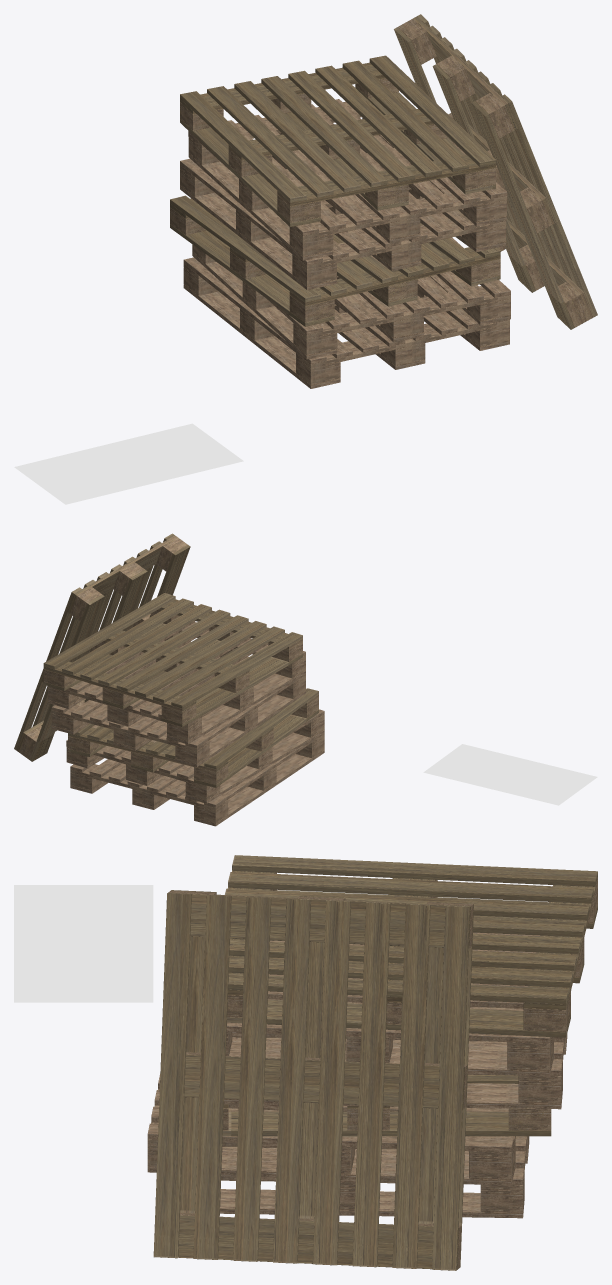
3 views of the same model, one above another, from view 1: azimuth 30°, elevation 25°; view 2: azimuth 150°, elevation 25°; view 3: azimuth 270°, elevation 25° (orthographic). The views are drawn at different scales.
Parts seen in each view (by area): view 1: group_5 (×13), group_7 (×6), V-Ray_Infinite_Plane, group_6 (×7), group_4 (×12), group_8 (×11), group_3 (×4), group_2 (×4), group_0 (×7); view 2: group_5 (×13), group_7 (×5), group_3 (×4), V-Ray_Infinite_Plane, group_6 (×5), group_2 (×4), group_8 (×5), group_0 (×4), group_4 (×4); view 3: group_5 (×16), group_7 (×6), V-Ray_Infinite_Plane, group_6 (×4), group_3 (×4), group_4 (×4), group_0 (×4), group_8 (×2).
Part boxes in pixels (x1,y1,x2,y2): group_5 (×13): [170, 55, 597, 316]; group_7 (×6): [170, 27, 574, 329]; V-Ray_Infinite_Plane: [14, 423, 243, 504]; group_6 (×7): [180, 16, 593, 318]; group_4 (×12): [289, 200, 510, 384]; group_8 (×11): [277, 18, 589, 327]; group_3 (×4): [180, 153, 340, 388]; group_2 (×4): [289, 191, 510, 368]; group_0 (×7): [180, 99, 483, 364]; group_5 (×13): [14, 533, 318, 769]; group_7 (×5): [29, 545, 318, 787]; group_3 (×4): [167, 670, 324, 826]; V-Ray_Infinite_Plane: [423, 744, 597, 805]; group_6 (×5): [43, 535, 302, 772]; group_2 (×4): [47, 685, 228, 810]; group_8 (×5): [70, 537, 228, 784]; group_0 (×4): [67, 620, 324, 807]; group_4 (×4): [167, 721, 228, 823]; group_5 (×16): [153, 855, 597, 1270]; group_7 (×6): [171, 890, 597, 1267]; V-Ray_Infinite_Plane: [14, 885, 153, 1002]; group_6 (×4): [168, 877, 597, 1269]; group_3 (×4): [147, 1040, 562, 1218]; group_4 (×4): [469, 1037, 562, 1212]; group_0 (×4): [147, 991, 563, 1152]; group_8 (×2): [508, 991, 570, 1130].
Size of the model in its own units: 122 by 75.53 by 46.21.
4 materials, 3 textured.
